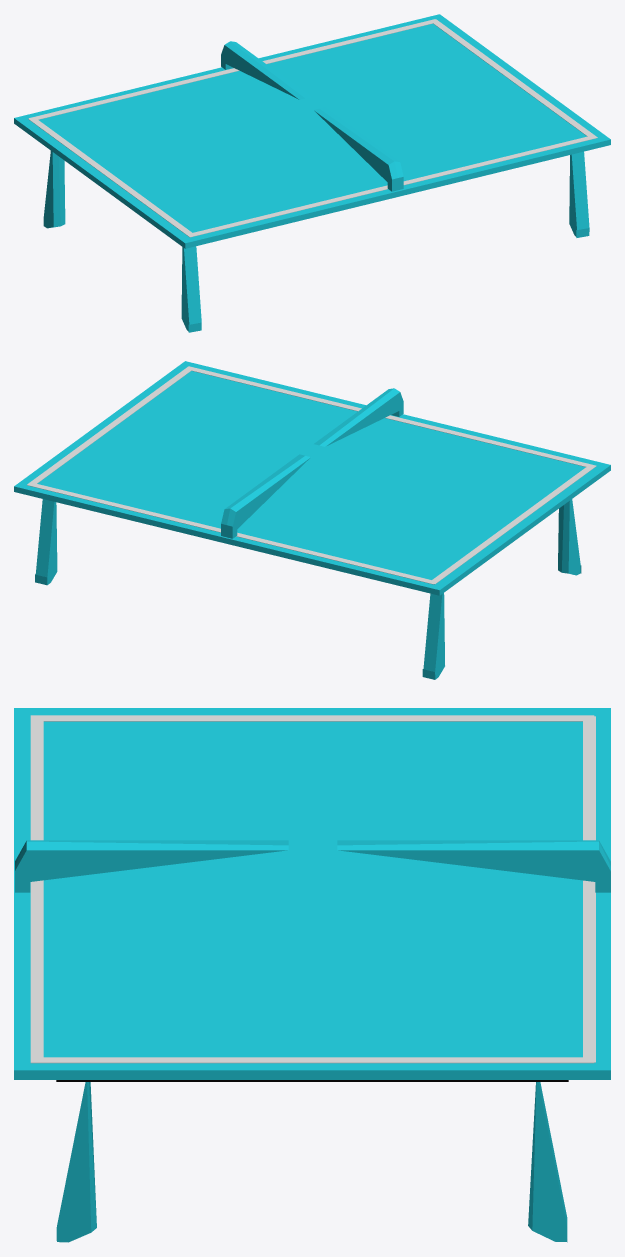
The model's file is TablaHielo.fbx.
The picture shows the model from 3 angles, top to bottom: view 1: azimuth 30°, elevation 25°; view 2: azimuth 150°, elevation 25°; view 3: azimuth 270°, elevation 25°; orthographic projection. The views are drawn at different scales.
Visible parts, largest first — view 1: Cube.001, Cube.003, Cube.002, Cube.004, Cube.005, Cube.008, Cube.011, Cube.010, Cube.006, Cube.007; view 2: Cube.001, Cube.005, Cube.004, Cube.002, Cube.003, Cube.010, Cube.009, Cube.011, Cube.006, Cube.007; view 3: Cube.001, Cube.005, Cube.003, Cube.002, Cube.004, Cube.007, Cube.006, Cube.008, Cube.009, Cube.
Boxes of the visible parts, bbox=[...] form: Cube.001: bbox=[14, 14, 610, 248]; Cube.003: bbox=[314, 107, 403, 191]; Cube.002: bbox=[191, 136, 596, 237]; Cube.004: bbox=[29, 19, 438, 120]; Cube.005: bbox=[221, 41, 310, 99]; Cube.008: bbox=[569, 151, 589, 237]; Cube.011: bbox=[181, 246, 201, 332]; Cube.010: bbox=[43, 151, 65, 228]; Cube.006: bbox=[28, 118, 195, 237]; Cube.007: bbox=[433, 19, 597, 138]; Cube.001: bbox=[14, 361, 610, 595]; Cube.005: bbox=[221, 454, 310, 538]; Cube.004: bbox=[27, 482, 436, 584]; Cube.002: bbox=[191, 368, 589, 466]; Cube.003: bbox=[314, 388, 403, 446]; Cube.010: bbox=[422, 593, 444, 679]; Cube.009: bbox=[35, 499, 57, 585]; Cube.011: bbox=[558, 499, 581, 575]; Cube.006: bbox=[432, 464, 596, 584]; Cube.007: bbox=[27, 366, 194, 484]; Cube.001: bbox=[14, 708, 610, 1079]; Cube.005: bbox=[337, 840, 610, 892]; Cube.003: bbox=[15, 840, 288, 892]; Cube.002: bbox=[30, 716, 43, 1057]; Cube.004: bbox=[583, 716, 595, 1062]; Cube.007: bbox=[30, 1057, 594, 1063]; Cube.006: bbox=[30, 715, 594, 721]; Cube.008: bbox=[56, 1082, 96, 1242]; Cube.009: bbox=[528, 1082, 567, 1242]; Cube: bbox=[56, 1080, 568, 1081].
Bounding box in the file's own units: 7286 × 2134 × 5076.
